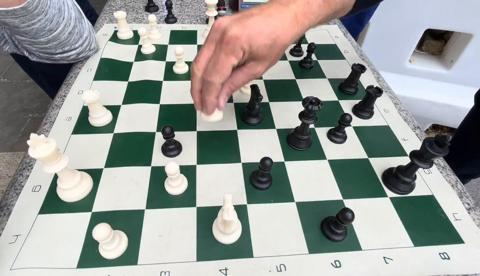xcorner: (303, 38, 314, 49), (248, 38, 259, 49), (191, 39, 202, 50), (162, 39, 173, 50), (133, 39, 144, 50), (311, 54, 322, 65), (282, 54, 293, 65), (252, 55, 263, 66), (222, 55, 233, 66), (191, 55, 202, 66), (160, 56, 171, 67), (128, 56, 139, 67), (321, 72, 332, 83), (289, 73, 300, 84), (257, 74, 268, 85), (224, 74, 235, 85), (191, 75, 202, 86), (123, 76, 134, 87), (332, 94, 343, 105), (298, 95, 309, 106), (263, 96, 274, 107), (227, 97, 238, 108), (191, 98, 202, 109), (154, 99, 165, 110), (116, 100, 127, 111), (346, 120, 357, 131), (308, 122, 319, 133), (270, 123, 281, 134), (231, 124, 242, 135), (191, 125, 202, 136), (150, 127, 161, 138), (321, 154, 332, 165), (235, 157, 246, 168), (191, 159, 202, 170), (99, 163, 110, 174), (383, 191, 394, 202), (337, 194, 348, 205), (289, 196, 300, 207), (241, 199, 252, 210), (191, 201, 202, 212), (140, 204, 151, 215), (87, 207, 98, 218), (276, 38, 286, 49), (220, 39, 231, 49), (157, 76, 168, 86), (109, 128, 119, 139), (363, 152, 373, 163), (279, 156, 290, 166), (146, 161, 156, 172)
